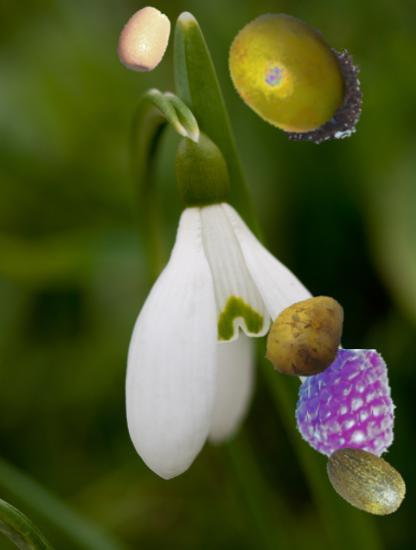Kumquats: (111, 6, 179, 74)
Maracuja: (221, 6, 357, 142)
Melon: (323, 434, 411, 522)
Potato: (260, 289, 355, 384)
Rambutan: (257, 28, 377, 148)
Raspberry: (287, 349, 406, 468)
